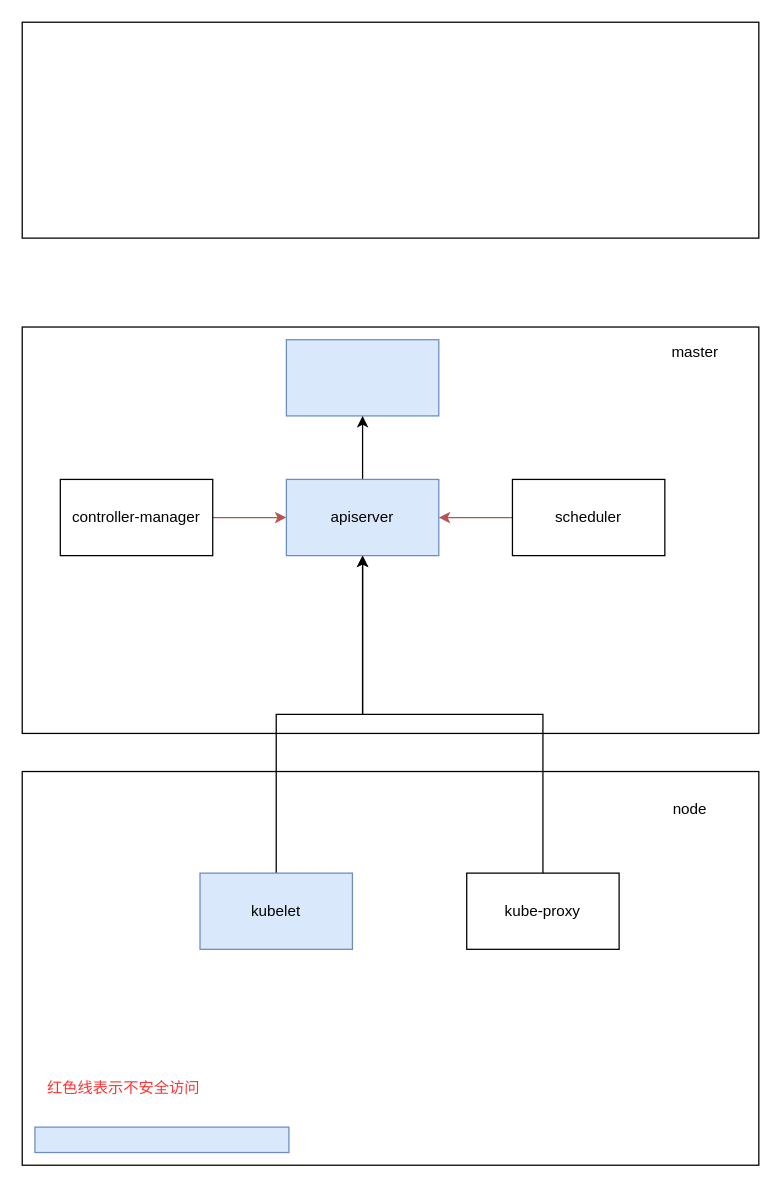
Image size: 781x1187. Some labels were removed from this diagram. The box of each missing label's shape, as (x1, y1, x2, y2) in pixels:
Etcd: (285, 338, 439, 416)
蓝色框表示即是客户端也是服务端: (34, 1126, 289, 1153)
